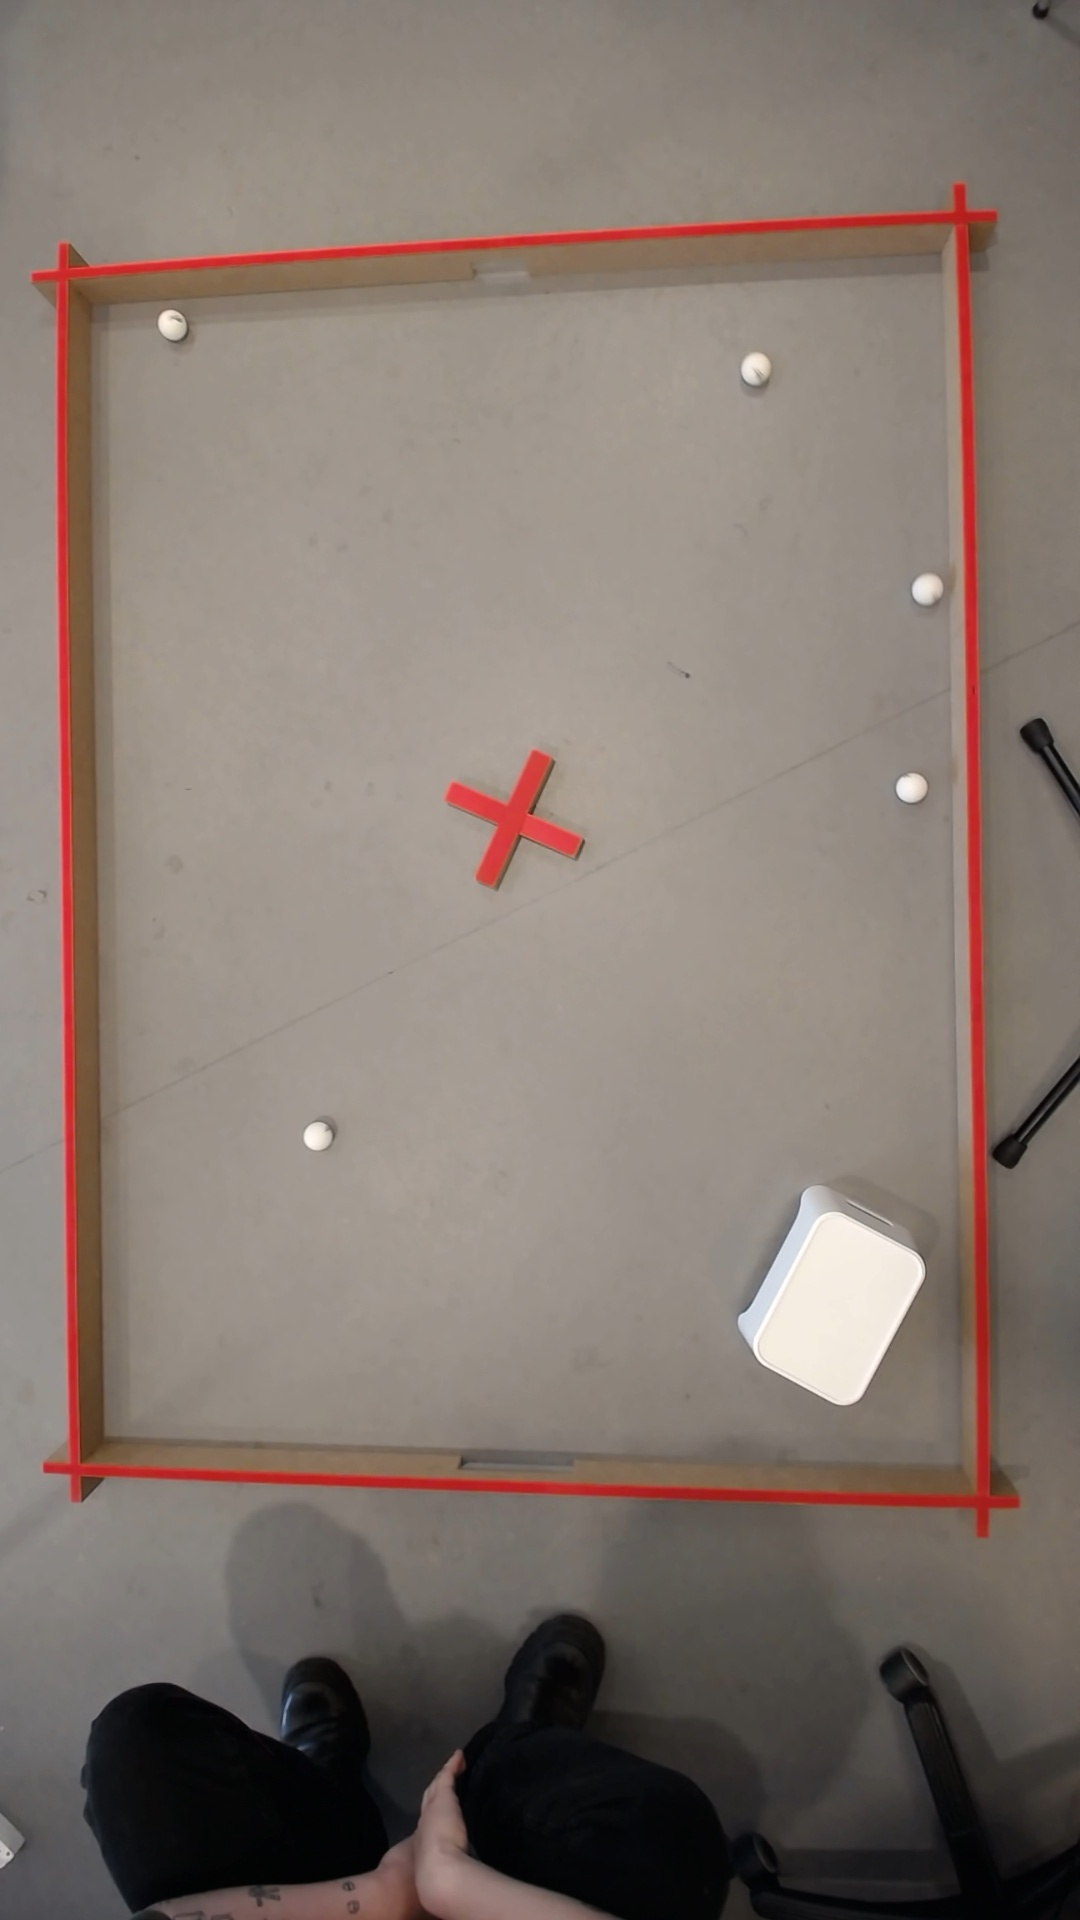balls: (723, 1187, 934, 1412), (733, 347, 773, 386), (905, 567, 944, 607), (891, 767, 928, 806)
car: (298, 1118, 334, 1154)
